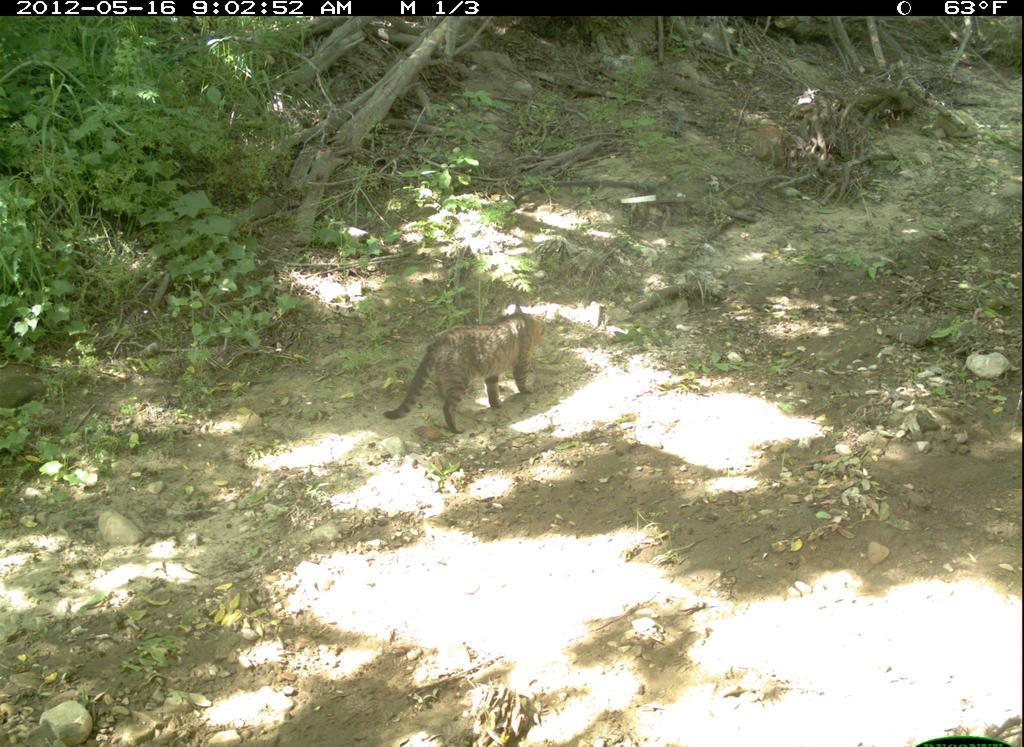cat: (376, 292, 561, 447)
